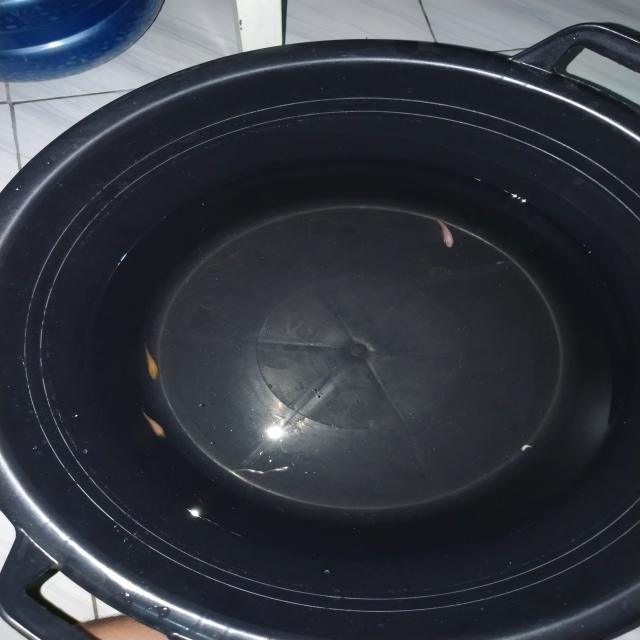nila: (136, 340, 163, 383), (139, 407, 168, 441), (434, 214, 456, 252)
